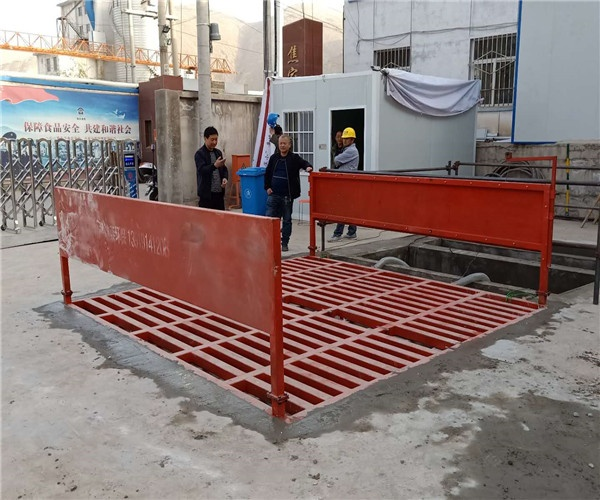none: (203, 125, 219, 149), (278, 135, 291, 153), (334, 129, 343, 145)
yellow: (340, 126, 356, 147)
